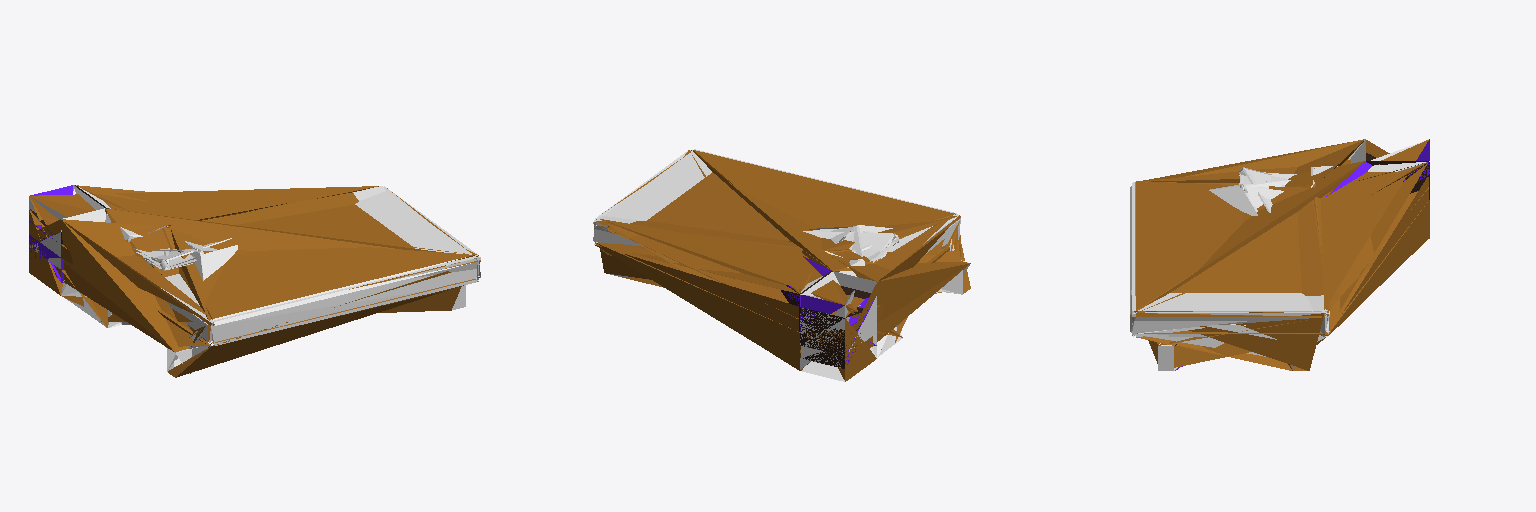
Rendered from bedroom.obj.
3 views of the same model, side by side, from view 1: azimuth 30°, elevation 25°; view 2: azimuth 150°, elevation 25°; view 3: azimuth 270°, elevation 25° (orthographic).
Parts seen in each view (by area): view 1: Box039, Box041, Box045; view 2: Box039, Box041, Box029, Box045; view 3: Box039, Box041.
Part boxes in pixels (x1,y1,x2,y2): Box039: (29, 185, 480, 377); Box041: (29, 185, 480, 373); Box045: (29, 185, 72, 283); Box039: (594, 150, 970, 381); Box041: (593, 149, 969, 381); Box029: (781, 271, 874, 368); Box045: (784, 256, 876, 367); Box039: (1130, 139, 1429, 370); Box041: (1130, 139, 1429, 370).
Size of the model in its own units: 110764 by 29647 by 94236.